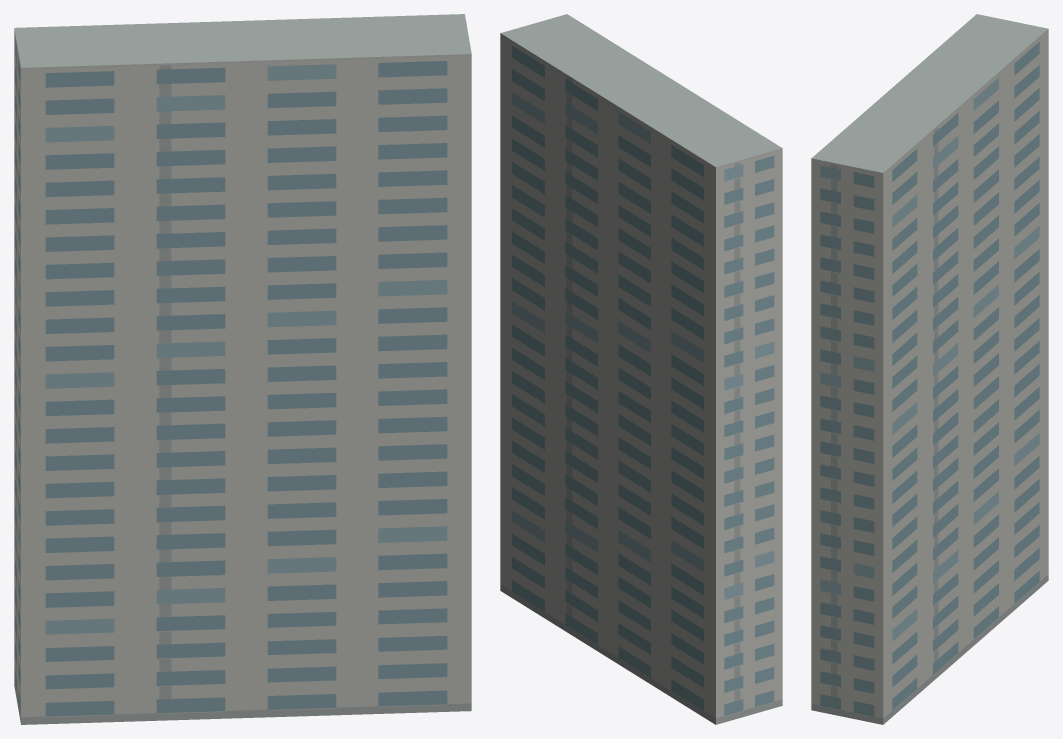
Rendered from residential-66f213be-a534-4080-82d1-e35aacd82a48.glb.
The picture shows the model from 3 angles, left to right: view 1: azimuth 30°, elevation 25°; view 2: azimuth 150°, elevation 25°; view 3: azimuth 270°, elevation 25°; orthographic projection. The views are drawn at different scales.
Visible parts, largest first — view 1: residential-66f213be-a534-4080-82d1-e35aacd82a48.tmp; view 2: residential-66f213be-a534-4080-82d1-e35aacd82a48.tmp; view 3: residential-66f213be-a534-4080-82d1-e35aacd82a48.tmp.
Part boxes in pixels (x1,y1,x2,y2): residential-66f213be-a534-4080-82d1-e35aacd82a48.tmp: (14, 14, 471, 724); residential-66f213be-a534-4080-82d1-e35aacd82a48.tmp: (500, 14, 782, 724); residential-66f213be-a534-4080-82d1-e35aacd82a48.tmp: (811, 14, 1048, 724).
Bounding box in the file's own units: 45.25 × 73.2 × 28.52.
